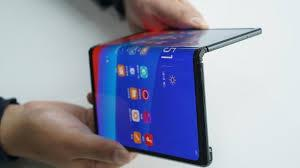Hand: (11, 102, 139, 168), (120, 0, 226, 32)
Smartphone: (86, 26, 259, 156)
